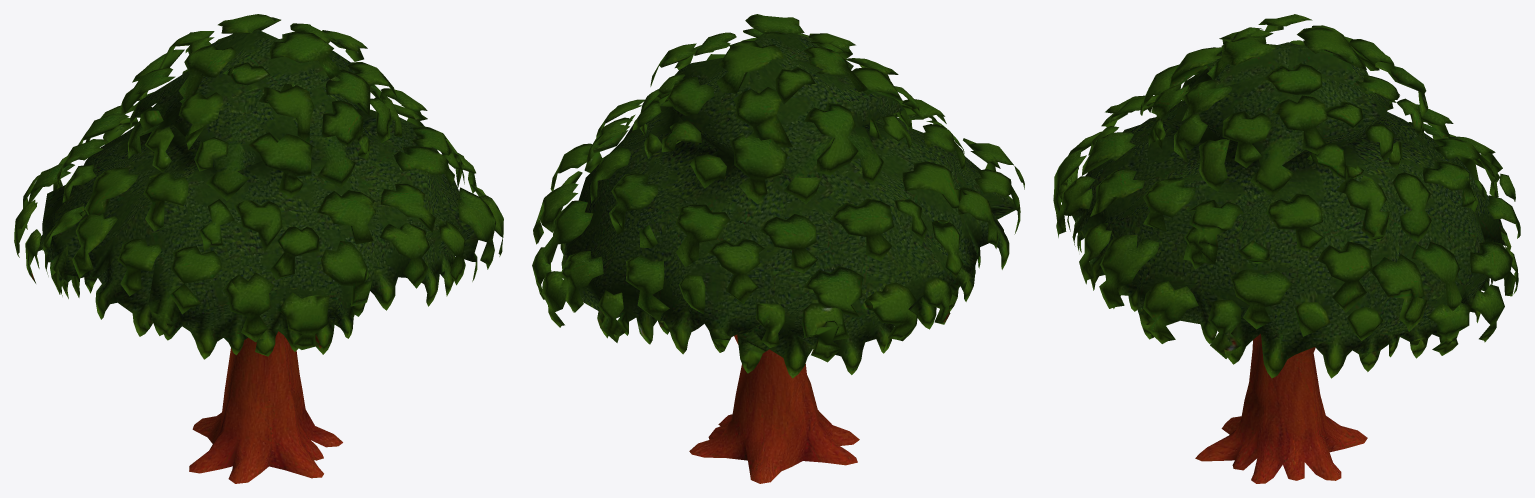
The model's file is selected.fbx.
3 views of the same model, side by side, from view 1: azimuth 30°, elevation 25°; view 2: azimuth 150°, elevation 25°; view 3: azimuth 270°, elevation 25° (orthographic).
Visible parts, largest first — view 1: tripo_node_83c51e9a-14d9-4da1-bdd8-2d104d6e1fab; view 2: tripo_node_83c51e9a-14d9-4da1-bdd8-2d104d6e1fab; view 3: tripo_node_83c51e9a-14d9-4da1-bdd8-2d104d6e1fab.
Boxes of the visible parts, left/top/right/bottom form: tripo_node_83c51e9a-14d9-4da1-bdd8-2d104d6e1fab: left=14, top=14, right=503, bottom=483; tripo_node_83c51e9a-14d9-4da1-bdd8-2d104d6e1fab: left=532, top=14, right=1024, bottom=483; tripo_node_83c51e9a-14d9-4da1-bdd8-2d104d6e1fab: left=1053, top=14, right=1520, bottom=483.
Size of the model in its own units: 0.998 by 0.9863 by 0.998.
1 material, 1 textured.
